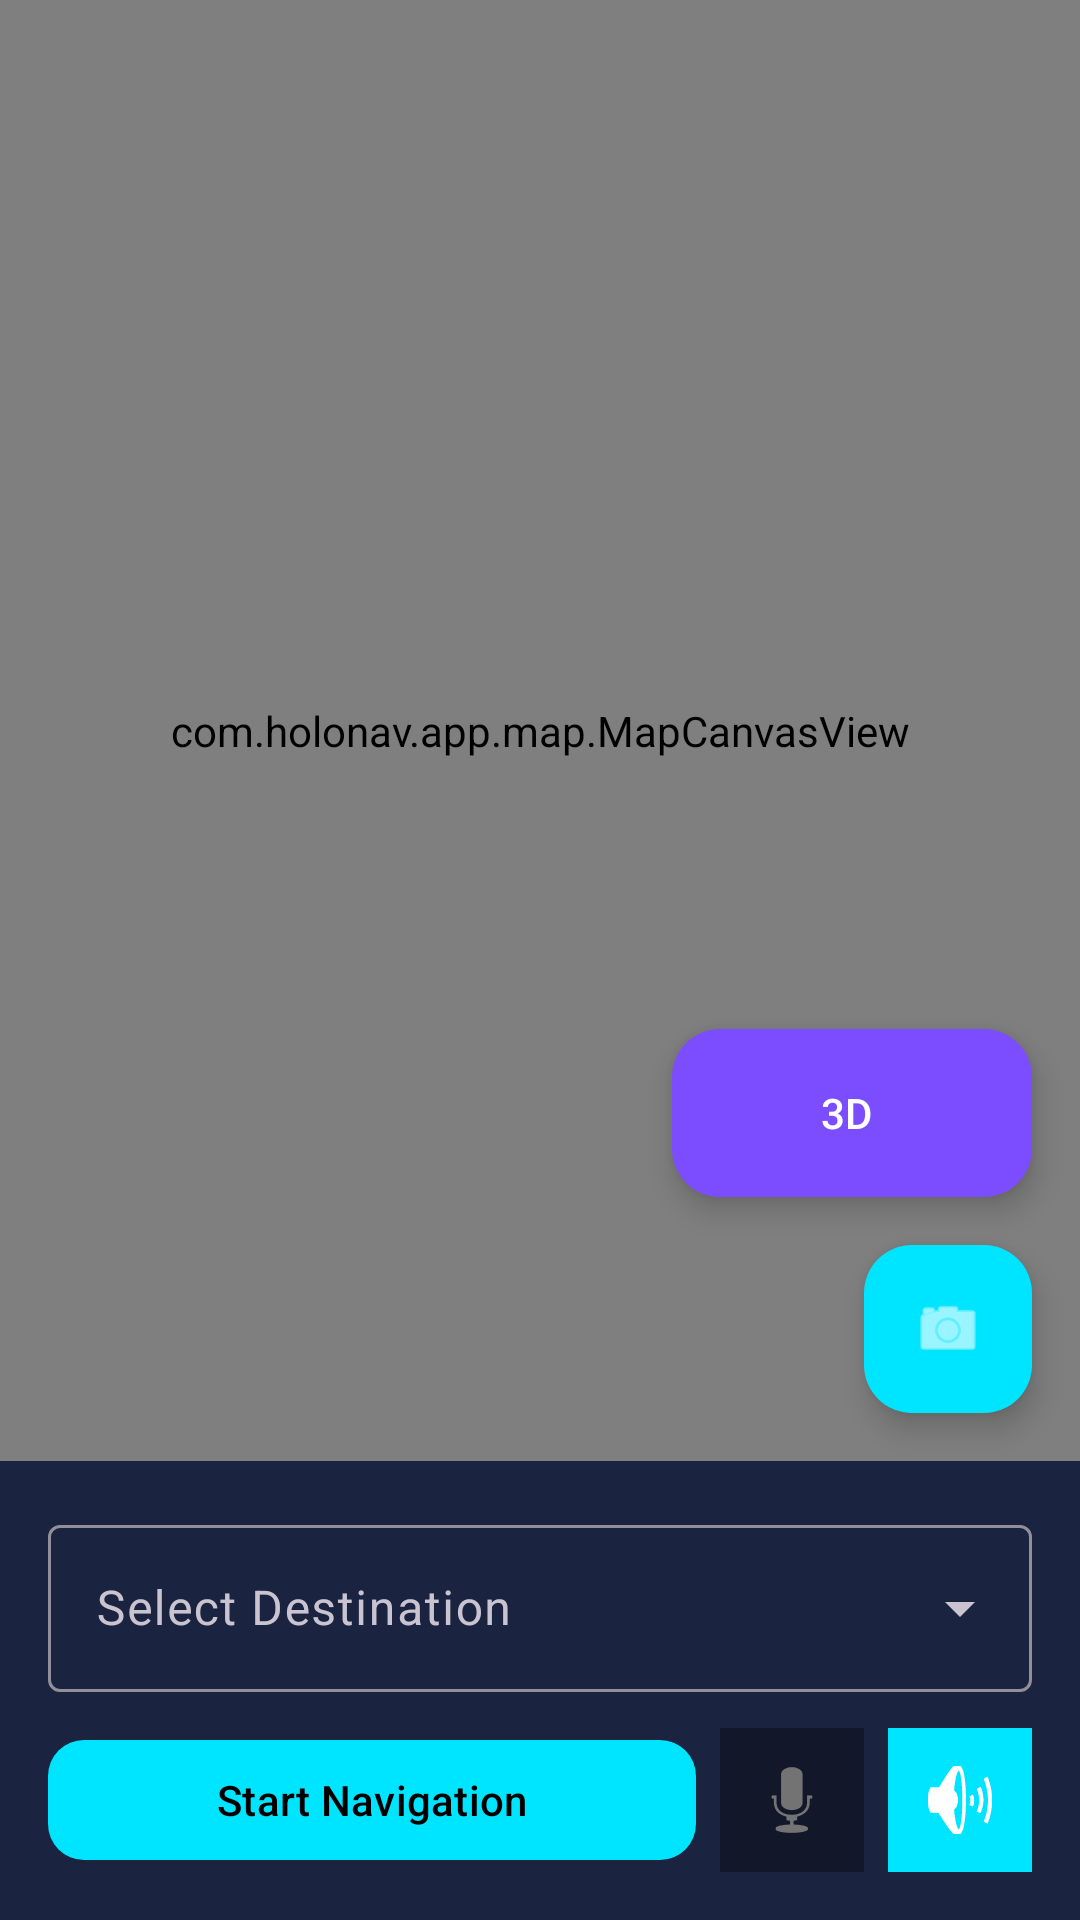

Icon click points for this 1080w x 1920h phone screenshot, format (x=x, y=y):
Switch to AR: (x=948, y=1329)
